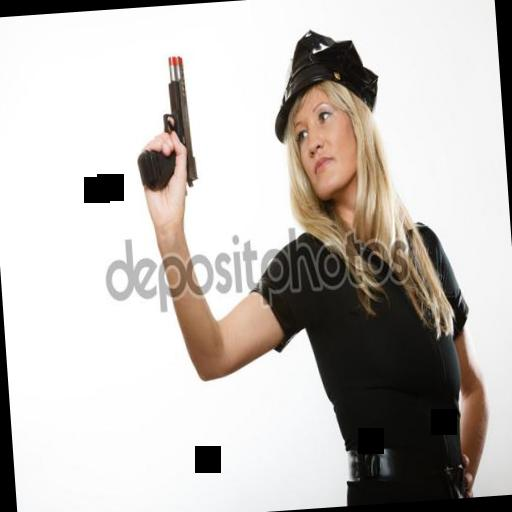Handgun: (120, 43, 200, 198)
